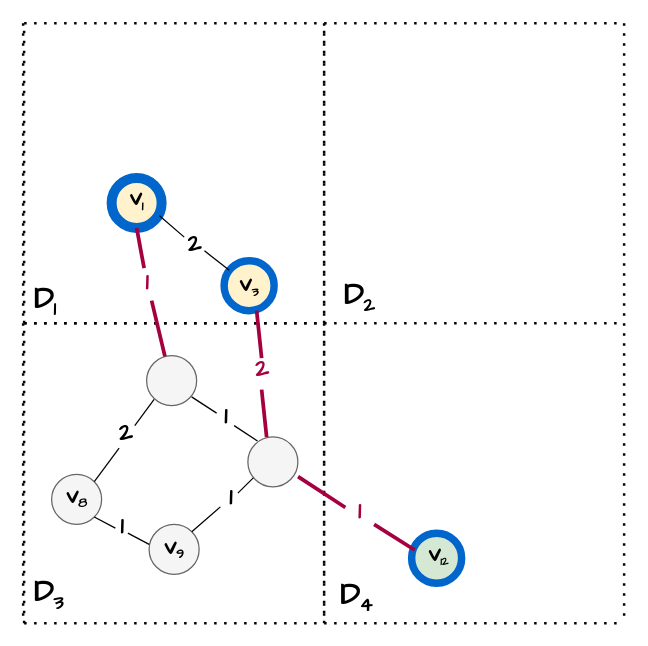
Some shapes in this 648 by 646 pixel diagram are drawn without their labels. Each missing label, with the box of its shape:
v 10: (145, 354, 197, 406)
v 11: (247, 436, 298, 487)
